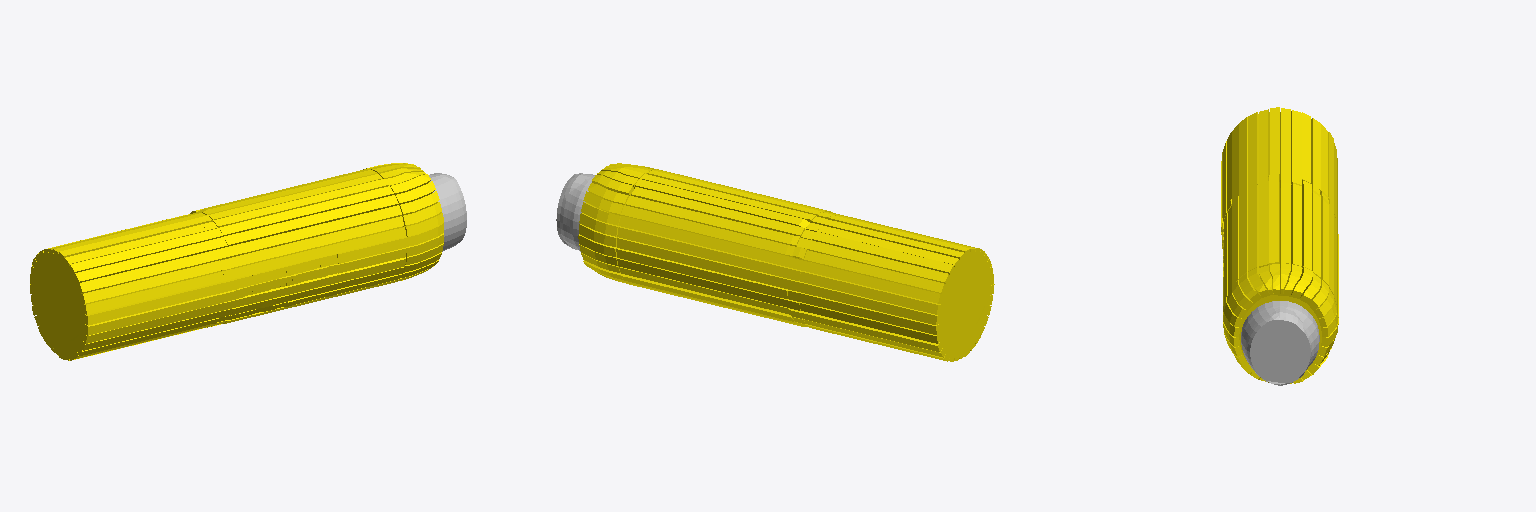
3 renders of one model, left to right at view 1: azimuth 30°, elevation 25°; view 2: azimuth 150°, elevation 25°; view 3: azimuth 270°, elevation 25°, orthographic.
Visible parts, largest first — view 1: 円柱, 円柱.001; view 2: 円柱, 円柱.001; view 3: 円柱, 円柱.001.
Boxes of the visible parts, <box> form: 円柱: <box>30,163,443,360</box>; 円柱.001: <box>429,173,466,251</box>; 円柱: <box>578,163,994,361</box>; 円柱.001: <box>556,173,594,251</box>; 円柱: <box>1221,107,1338,383</box>; 円柱.001: <box>1241,301,1319,385</box>.
Size of the model in its own units: 6.88 by 1.77 by 1.78.
Materials: 2 (1 with a texture image).